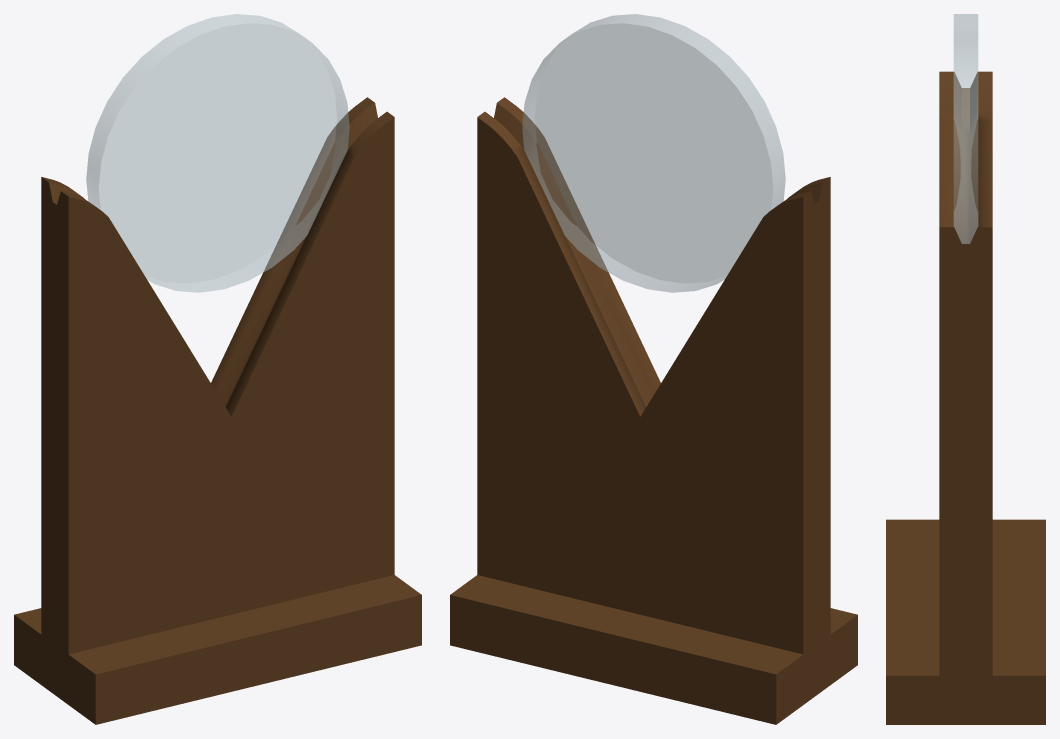
File: lensholder01.glb
3 renders of one model, left to right at view 1: azimuth 30°, elevation 25°; view 2: azimuth 150°, elevation 25°; view 3: azimuth 270°, elevation 25°, orthographic. The views are drawn at different scales.
Visible parts, largest first — view 1: Cube.003; view 2: Cube.003; view 3: Cube.003.
Part boxes in pixels (x1=…): Cube.003: x1=14, y1=14, x2=421, y2=724; Cube.003: x1=450, y1=14, x2=857, y2=724; Cube.003: x1=886, y1=14, x2=1045, y2=724.
Bounding box in the file's own units: 0.12 × 0.2226 × 0.0521.
